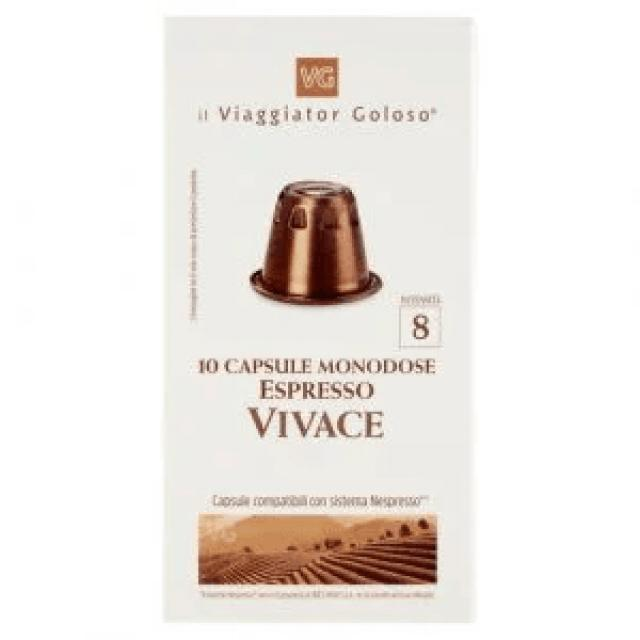Coffee: (162, 14, 478, 623)
